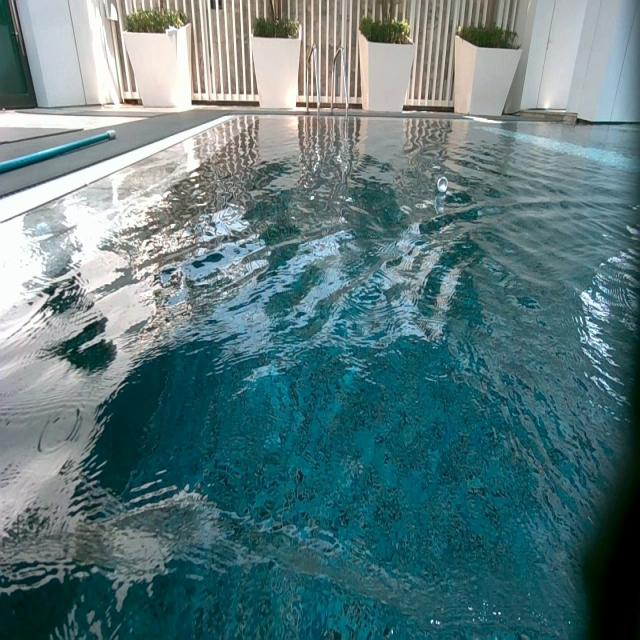Cans: (438, 176, 449, 191)
